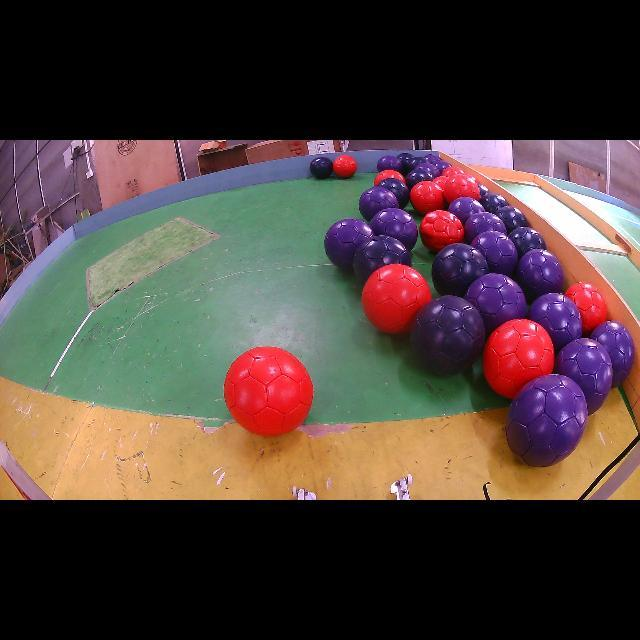B: (410, 295, 485, 375), (431, 242, 489, 298), (352, 235, 411, 284), (509, 226, 548, 258), (378, 178, 410, 208), (495, 206, 529, 233), (479, 194, 509, 214), (406, 169, 434, 190), (310, 158, 332, 179), (398, 152, 414, 172), (408, 156, 429, 171), (478, 184, 490, 196)
P: (505, 374, 588, 468), (554, 338, 612, 415), (464, 274, 528, 336), (526, 292, 582, 352), (590, 320, 635, 387), (324, 219, 374, 270), (516, 249, 564, 301), (471, 231, 519, 276), (370, 208, 418, 251), (359, 186, 399, 221), (464, 212, 507, 244), (449, 198, 486, 225), (415, 162, 441, 179), (378, 155, 402, 172), (435, 160, 451, 172), (424, 154, 441, 164)
R: (224, 346, 314, 436), (482, 319, 555, 399), (361, 264, 431, 334), (565, 282, 606, 336), (419, 210, 465, 252), (410, 181, 444, 215), (444, 174, 480, 203), (332, 155, 358, 178), (374, 170, 406, 186), (441, 166, 464, 178), (432, 176, 449, 190), (465, 174, 478, 184)
